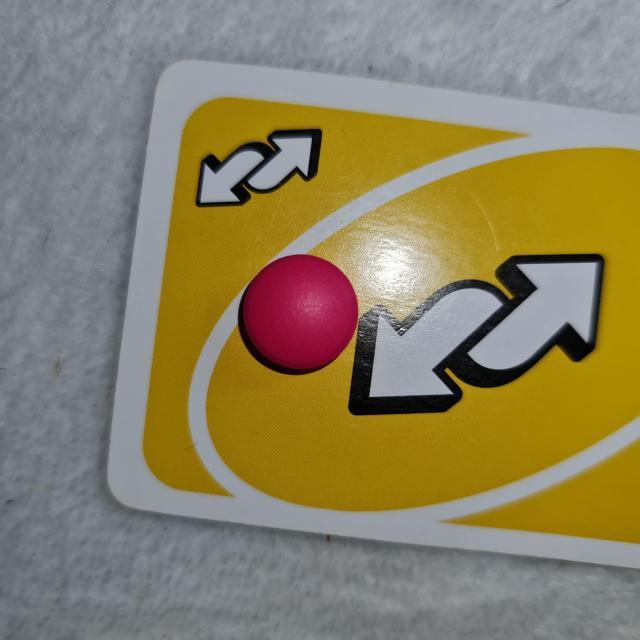pill: (236, 252, 360, 376)
